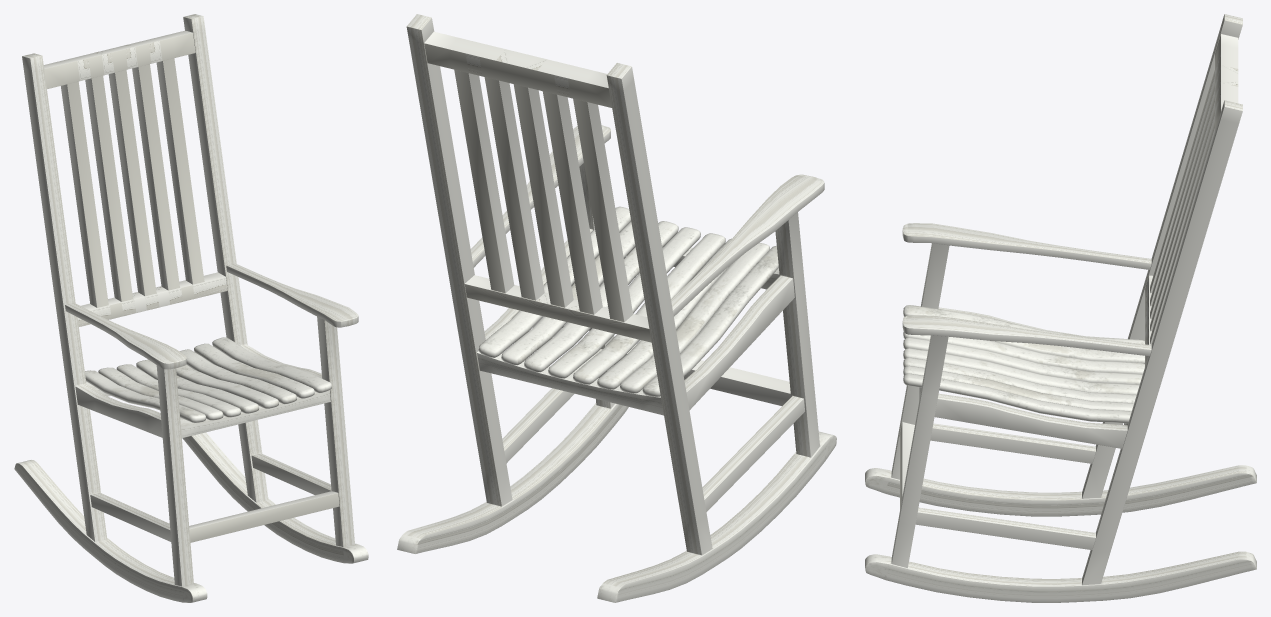
File: porch_rocking_chair_7d17d0f0.fbx
3 views of the same model, side by side, from view 1: azimuth 30°, elevation 25°; view 2: azimuth 150°, elevation 25°; view 3: azimuth 270°, elevation 25° (orthographic). The views are drawn at different scales.
Visible parts, largest first — view 1: porch_rocking_chair_7d17d0f0; view 2: porch_rocking_chair_7d17d0f0; view 3: porch_rocking_chair_7d17d0f0.
Boxes of the visible parts, x1,y1,x2,y2 form: porch_rocking_chair_7d17d0f0: (14,14,368,602); porch_rocking_chair_7d17d0f0: (397,14,836,602); porch_rocking_chair_7d17d0f0: (865,14,1256,602).
Size of the model in its own units: 0.5154 by 1.12 by 0.8046.
Materials: 2 (2 with a texture image).
